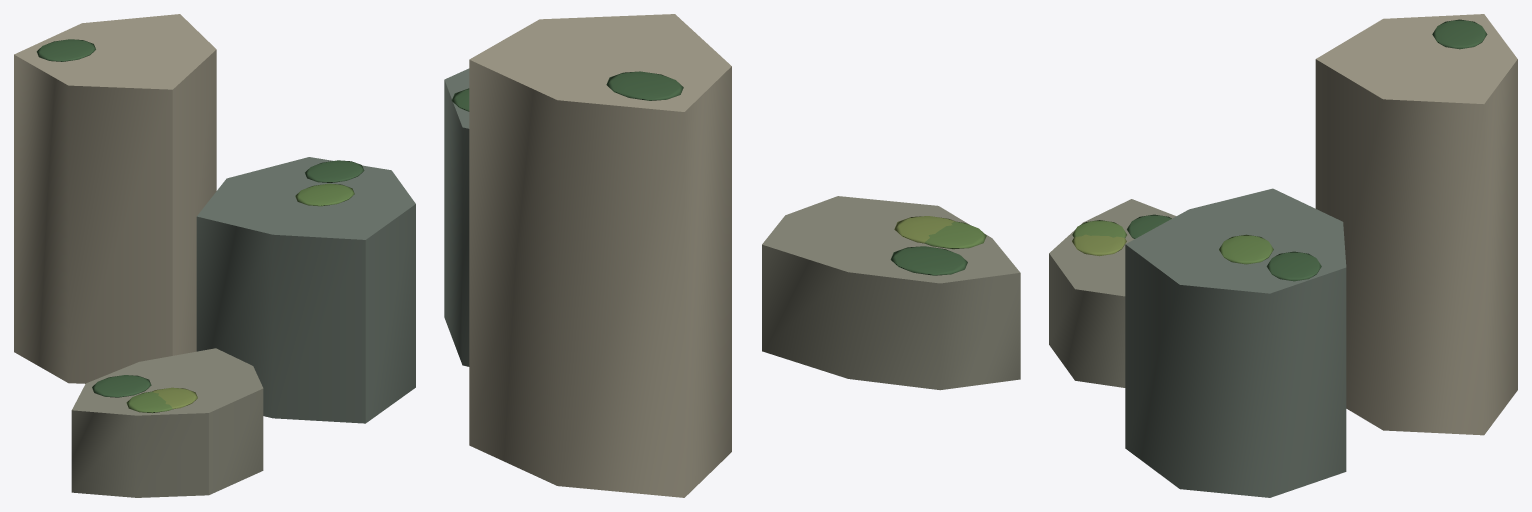
The picture shows the model from 3 angles, left to right: view 1: azimuth 30°, elevation 25°; view 2: azimuth 150°, elevation 25°; view 3: azimuth 270°, elevation 25°; orthographic projection. The views are drawn at different scales.
Visible parts, largest first — view 1: climb-rocks-1-0, climb-rocks-1-1, climb-rocks-1-2, 바위 02; view 2: climb-rocks-1-0, climb-rocks-1-2, climb-rocks-1-1, 바위 02; view 3: climb-rocks-1-0, climb-rocks-1-1, climb-rocks-1-2, 바위 02.
Part boxes in pixels (<box>): climb-rocks-1-0: <box>14,14,216,383</box>; climb-rocks-1-1: <box>196,157,415,423</box>; climb-rocks-1-2: <box>71,348,263,497</box>; 바위 02: <box>36,39,364,413</box>; climb-rocks-1-0: <box>469,14,731,497</box>; climb-rocks-1-2: <box>762,196,1020,390</box>; climb-rocks-1-1: <box>444,68,469,366</box>; 바위 02: <box>451,71,986,275</box>; climb-rocks-1-0: <box>1315,14,1517,435</box>; climb-rocks-1-1: <box>1125,188,1346,497</box>; climb-rocks-1-2: <box>1049,199,1175,387</box>; 바위 02: <box>1072,19,1487,281</box>.
Size of the model in its own units: 3.2 by 2.41 by 3.05.
